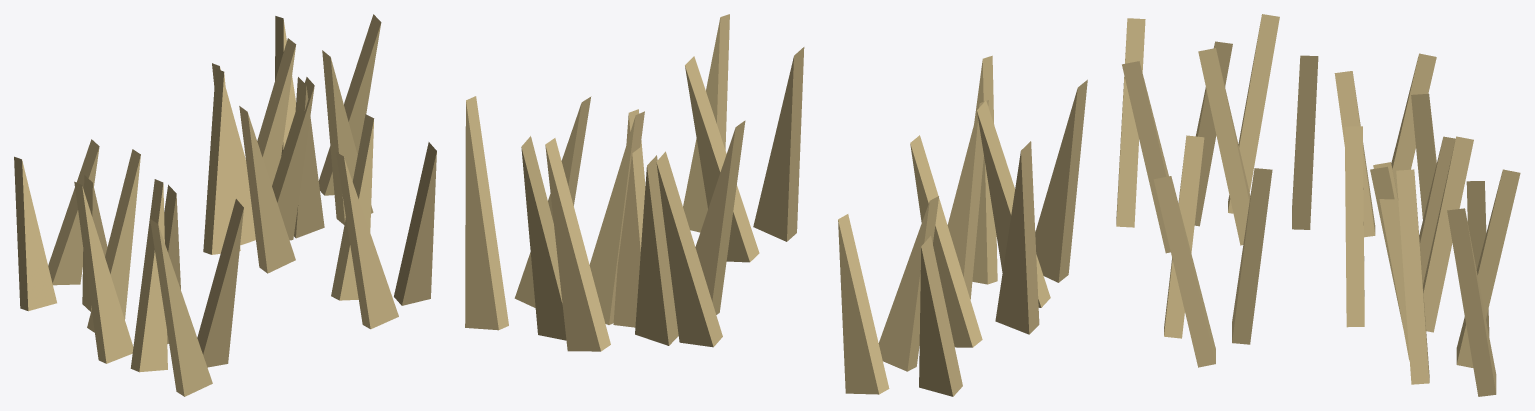
The model's file is packed.glb.
3 views of the same model, side by side, from view 1: azimuth 30°, elevation 25°; view 2: azimuth 150°, elevation 25°; view 3: azimuth 270°, elevation 25° (orthographic). The views are drawn at different scales.
Parts seen in each view (by area): view 1: grass-tuft-cluster-thatch; view 2: grass-tuft-cluster-thatch; view 3: grass-tuft-cluster-thatch.
Boxes of the visible parts, <box> form: grass-tuft-cluster-thatch: <box>14,14,436,396</box>; grass-tuft-cluster-thatch: <box>465,14,1087,396</box>; grass-tuft-cluster-thatch: <box>1116,14,1520,396</box>.
Size of the model in its own units: 1.59 by 0.7177 by 1.34.
